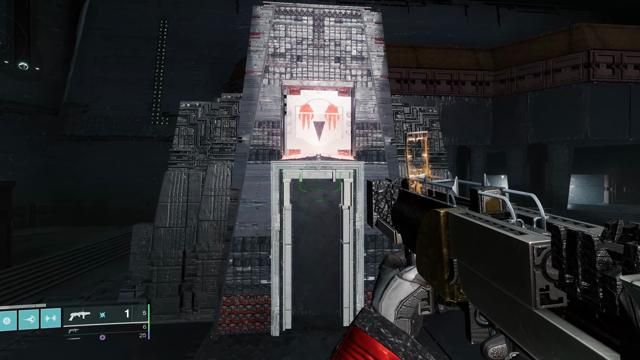give: (295, 99, 343, 146)
